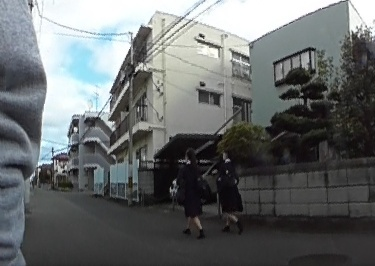person: (173, 148, 209, 237), (218, 149, 246, 232)
